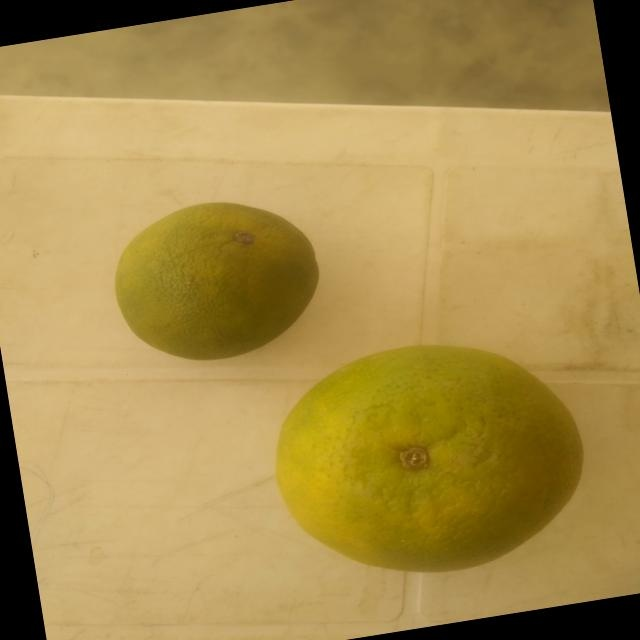agrume: (251, 315, 611, 597), (98, 176, 350, 384)
